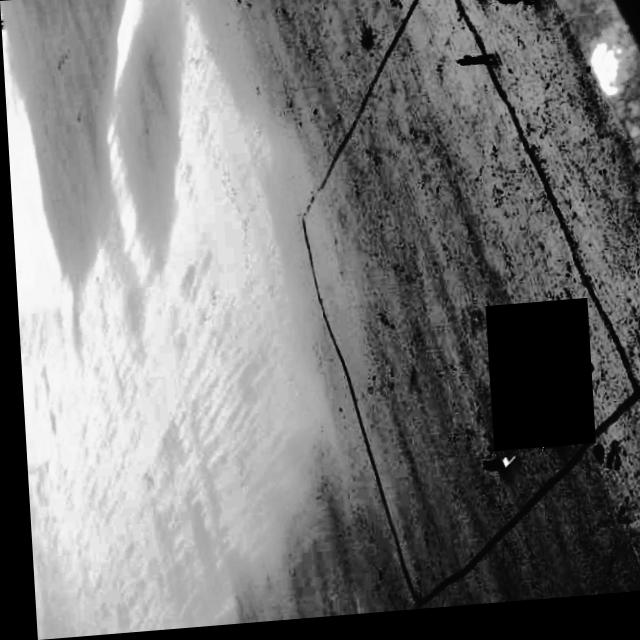qr_code: (482, 307, 589, 458)
